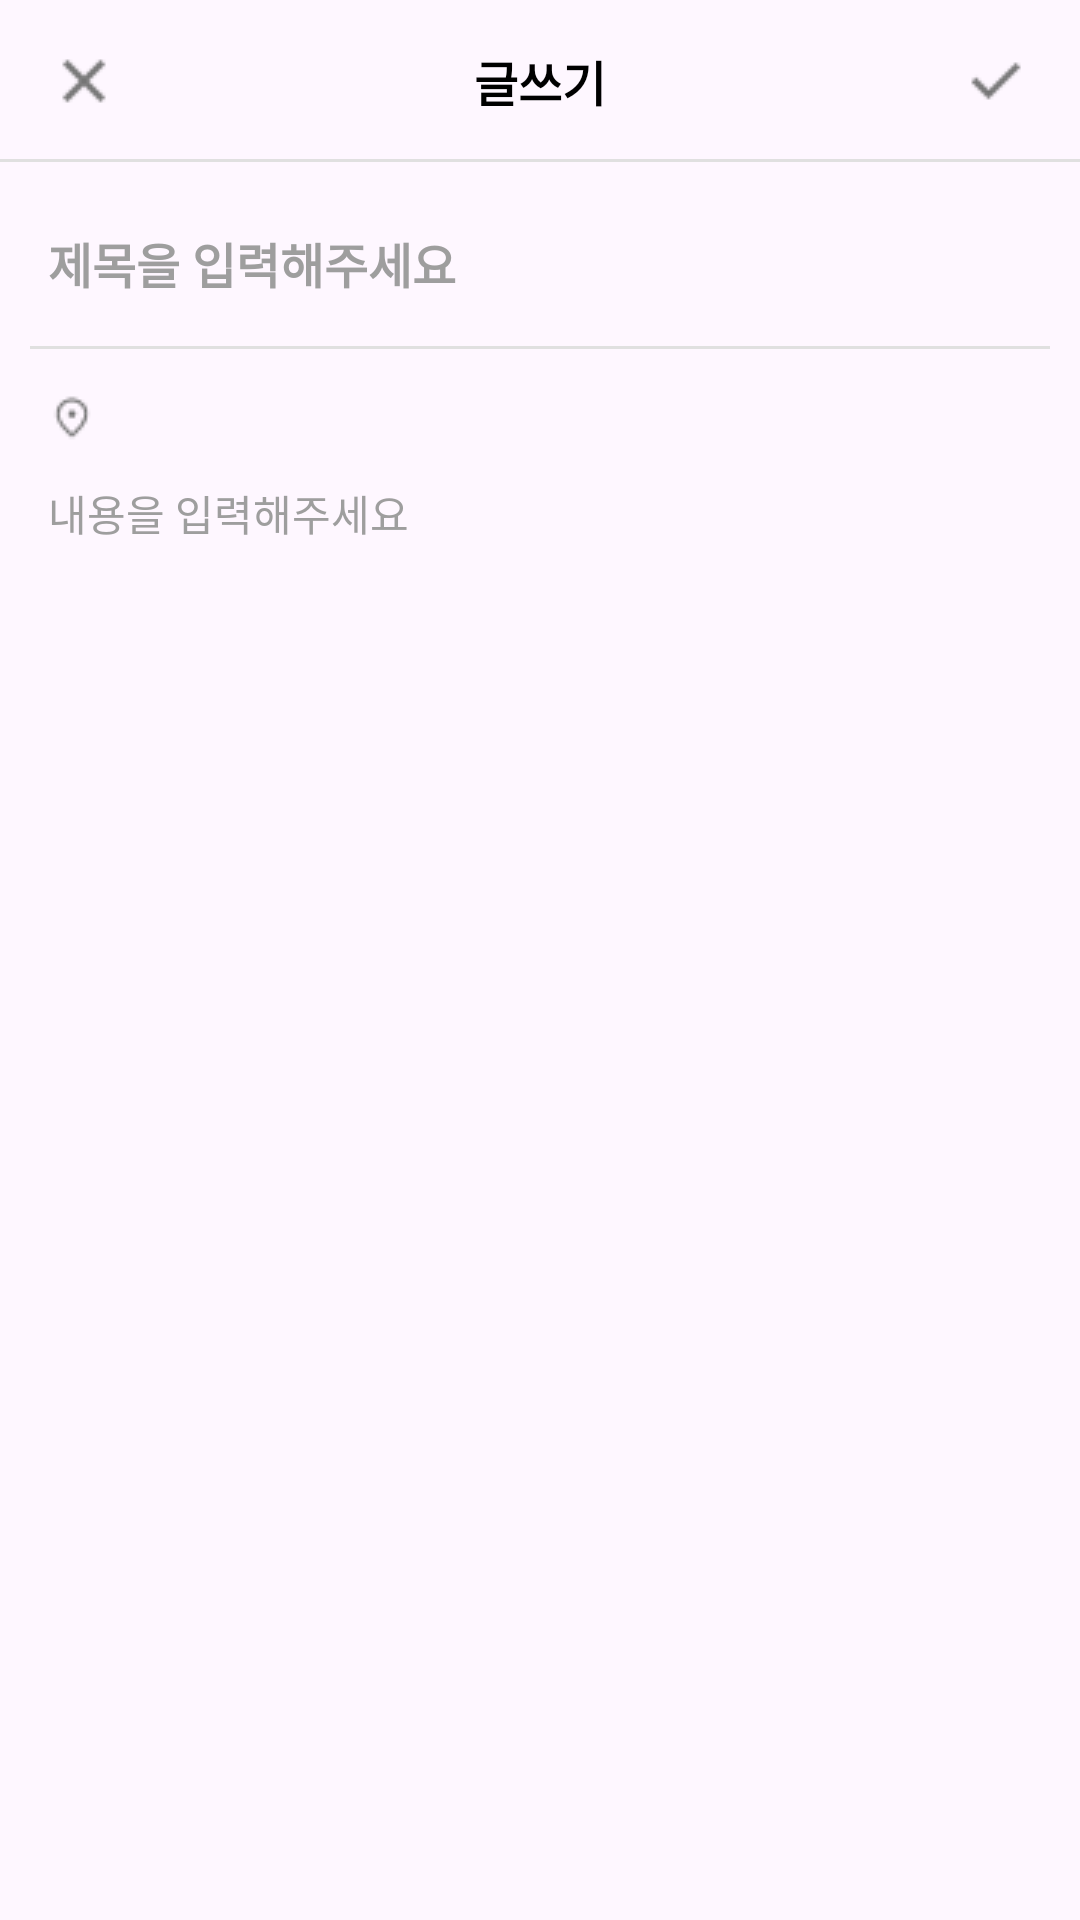

Named icons in this screenshot (1080 x 1920) and their centers, point (x, y):
check: point (996, 81)
close: point (84, 81)
location on: point (72, 417)
